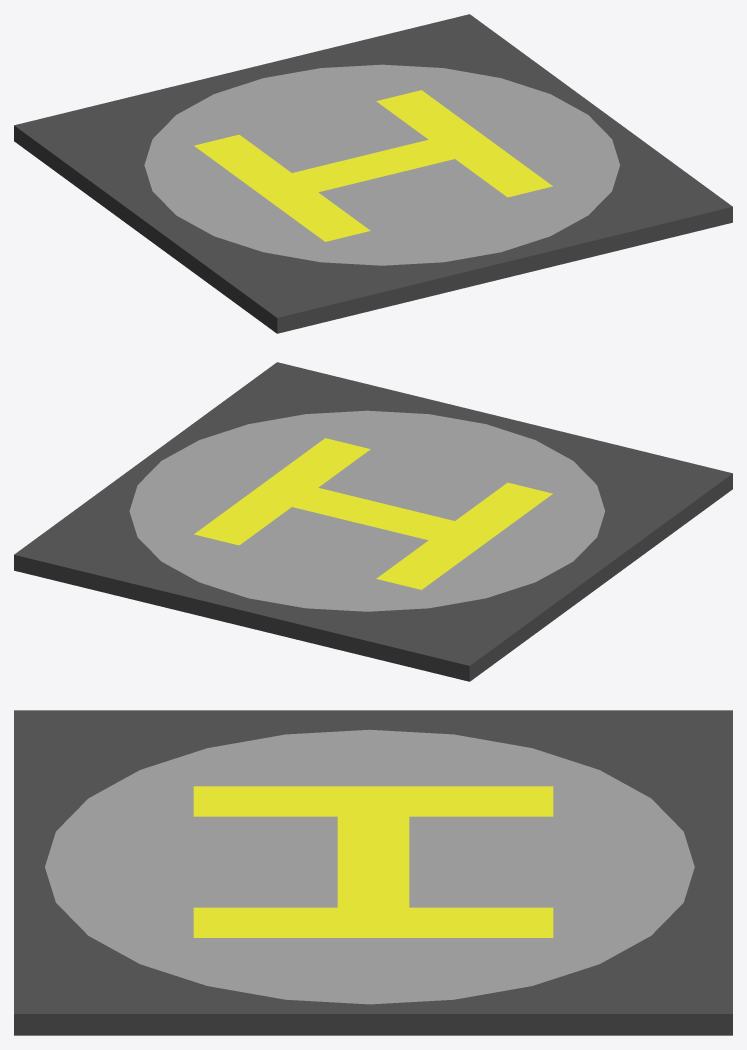
Rendered from Apache.fbx.
The picture shows the model from 3 angles, top to bottom: view 1: azimuth 30°, elevation 25°; view 2: azimuth 150°, elevation 25°; view 3: azimuth 270°, elevation 25°; orthographic projection. The views are drawn at different scales.
Visible parts, largest first — view 1: Model; view 2: Model; view 3: Model.
Boxes of the visible parts, x1,y1,x2,y2 form: Model: (14,14,732,333); Model: (14,362,732,681); Model: (14,710,732,1035).
Size of the model in its own units: 3000 by 100 by 3000.
